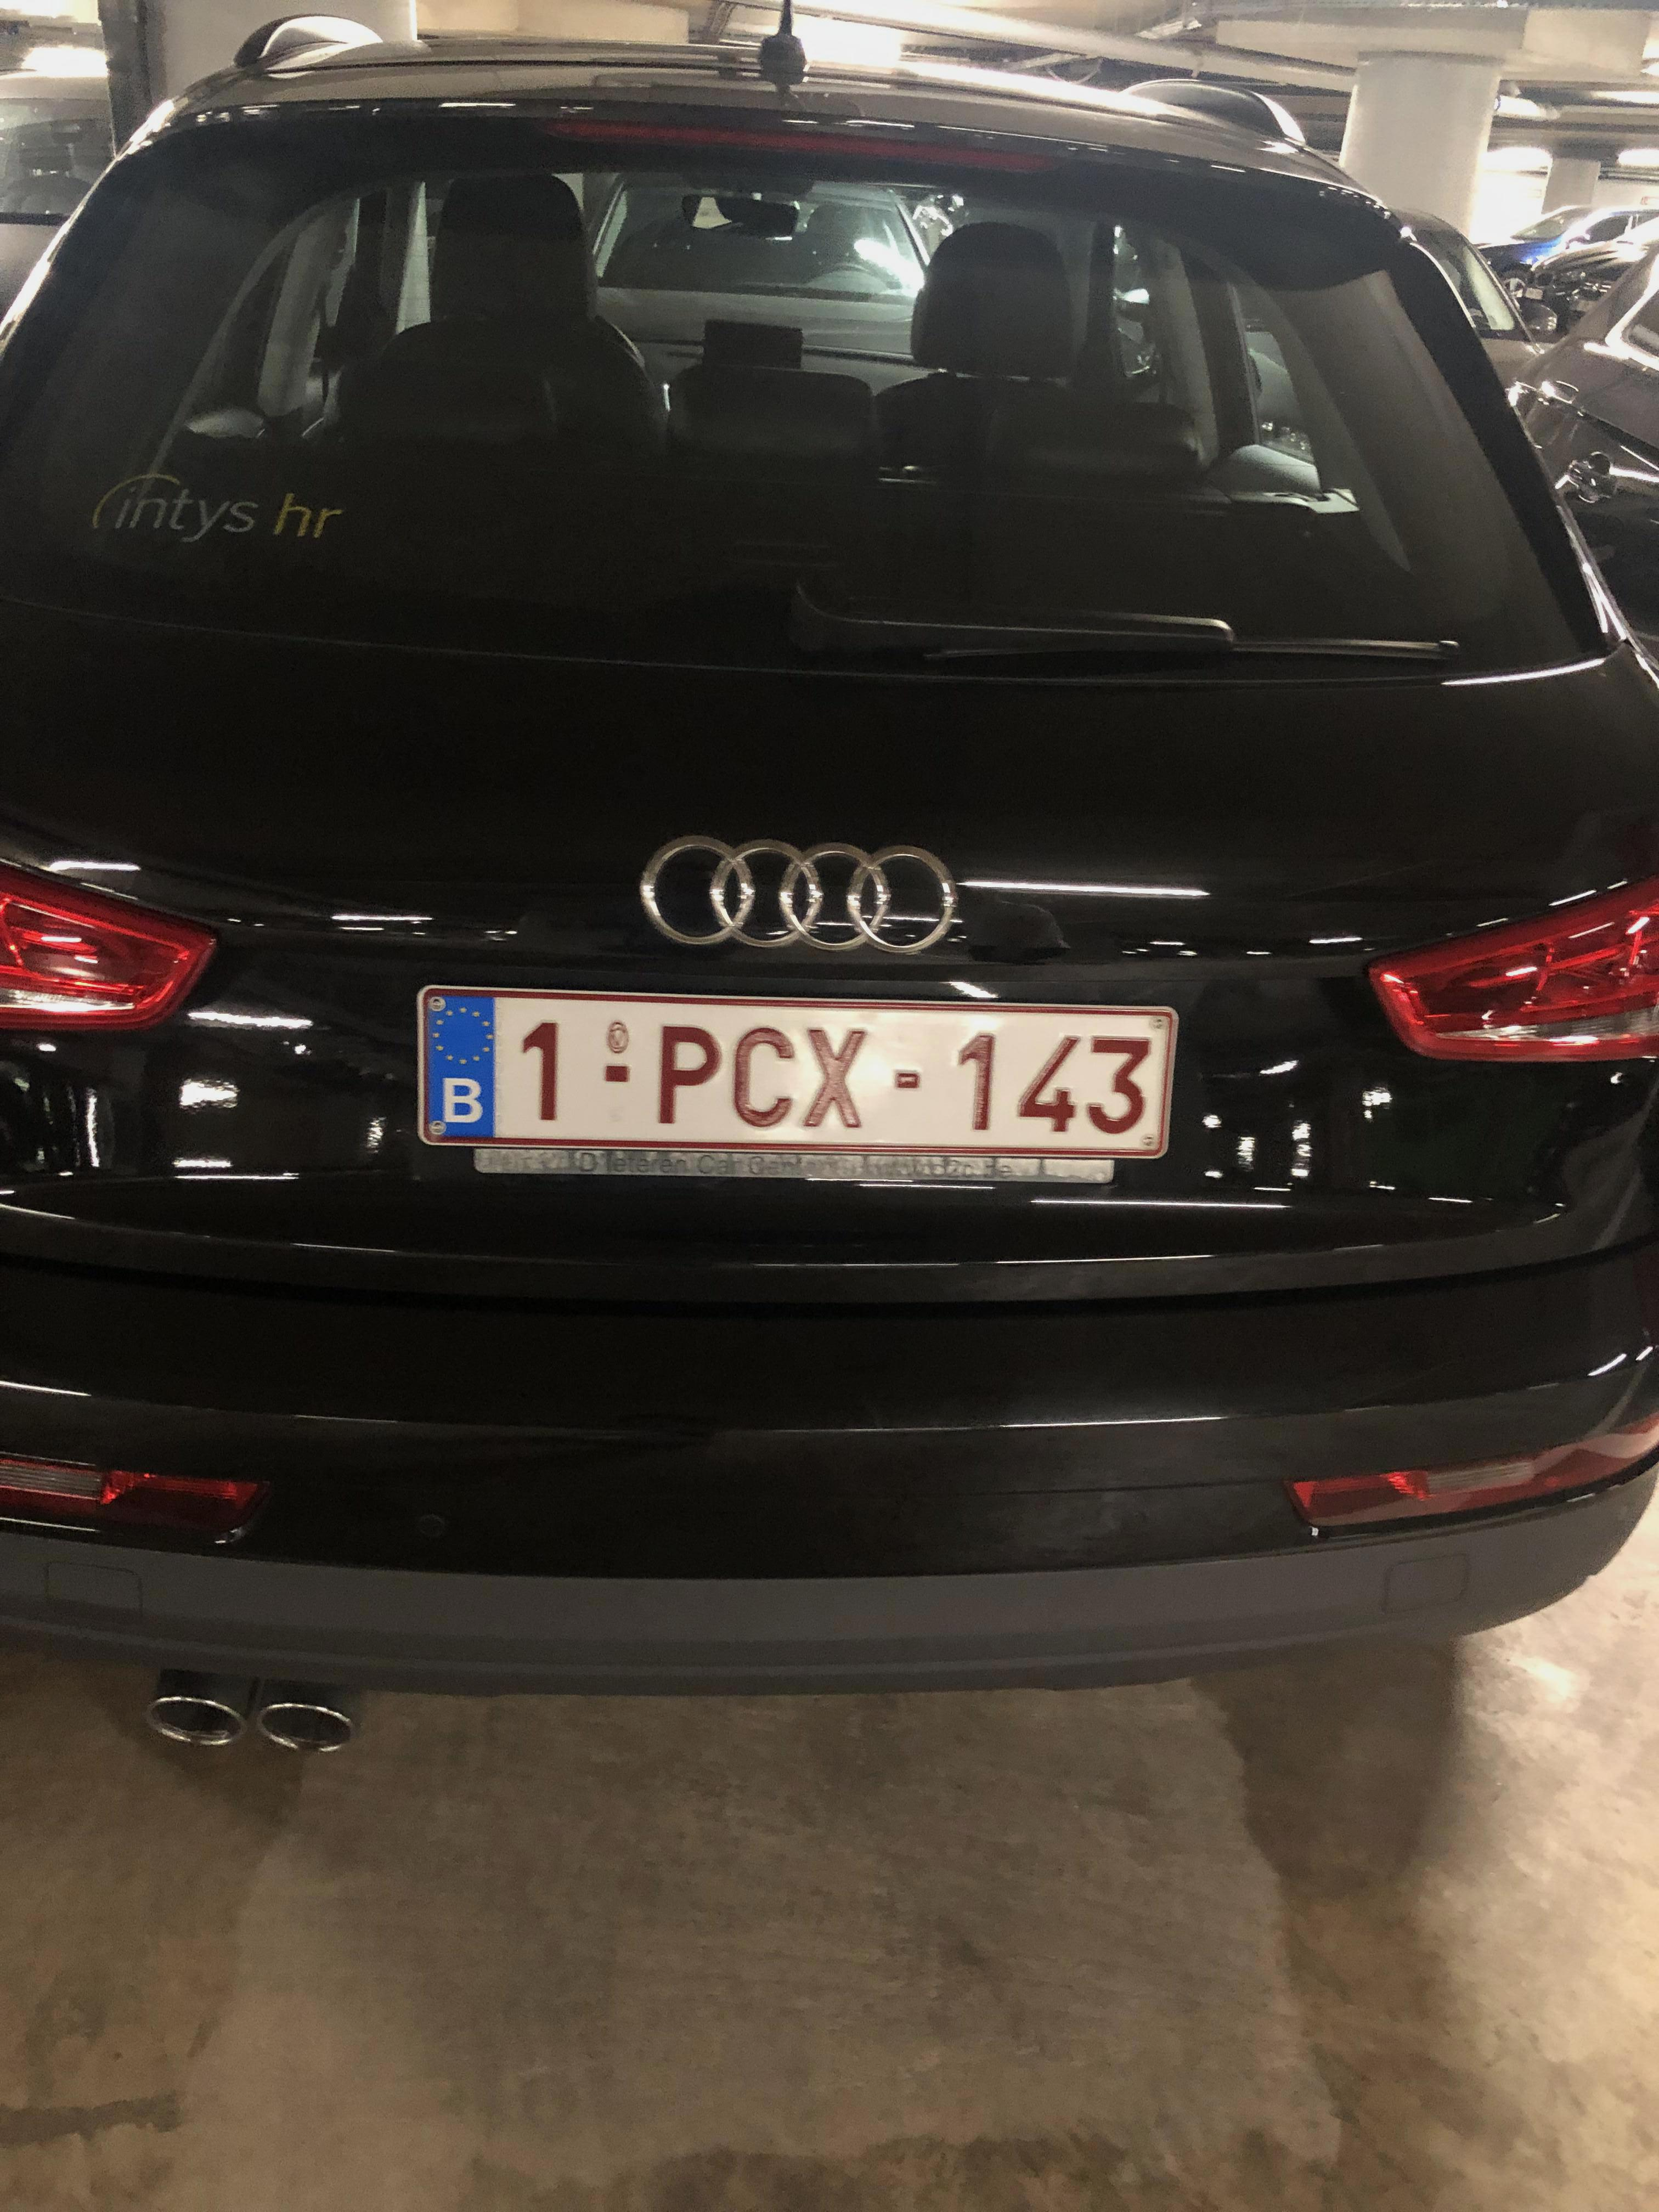plate: (375, 958, 1204, 1167)
